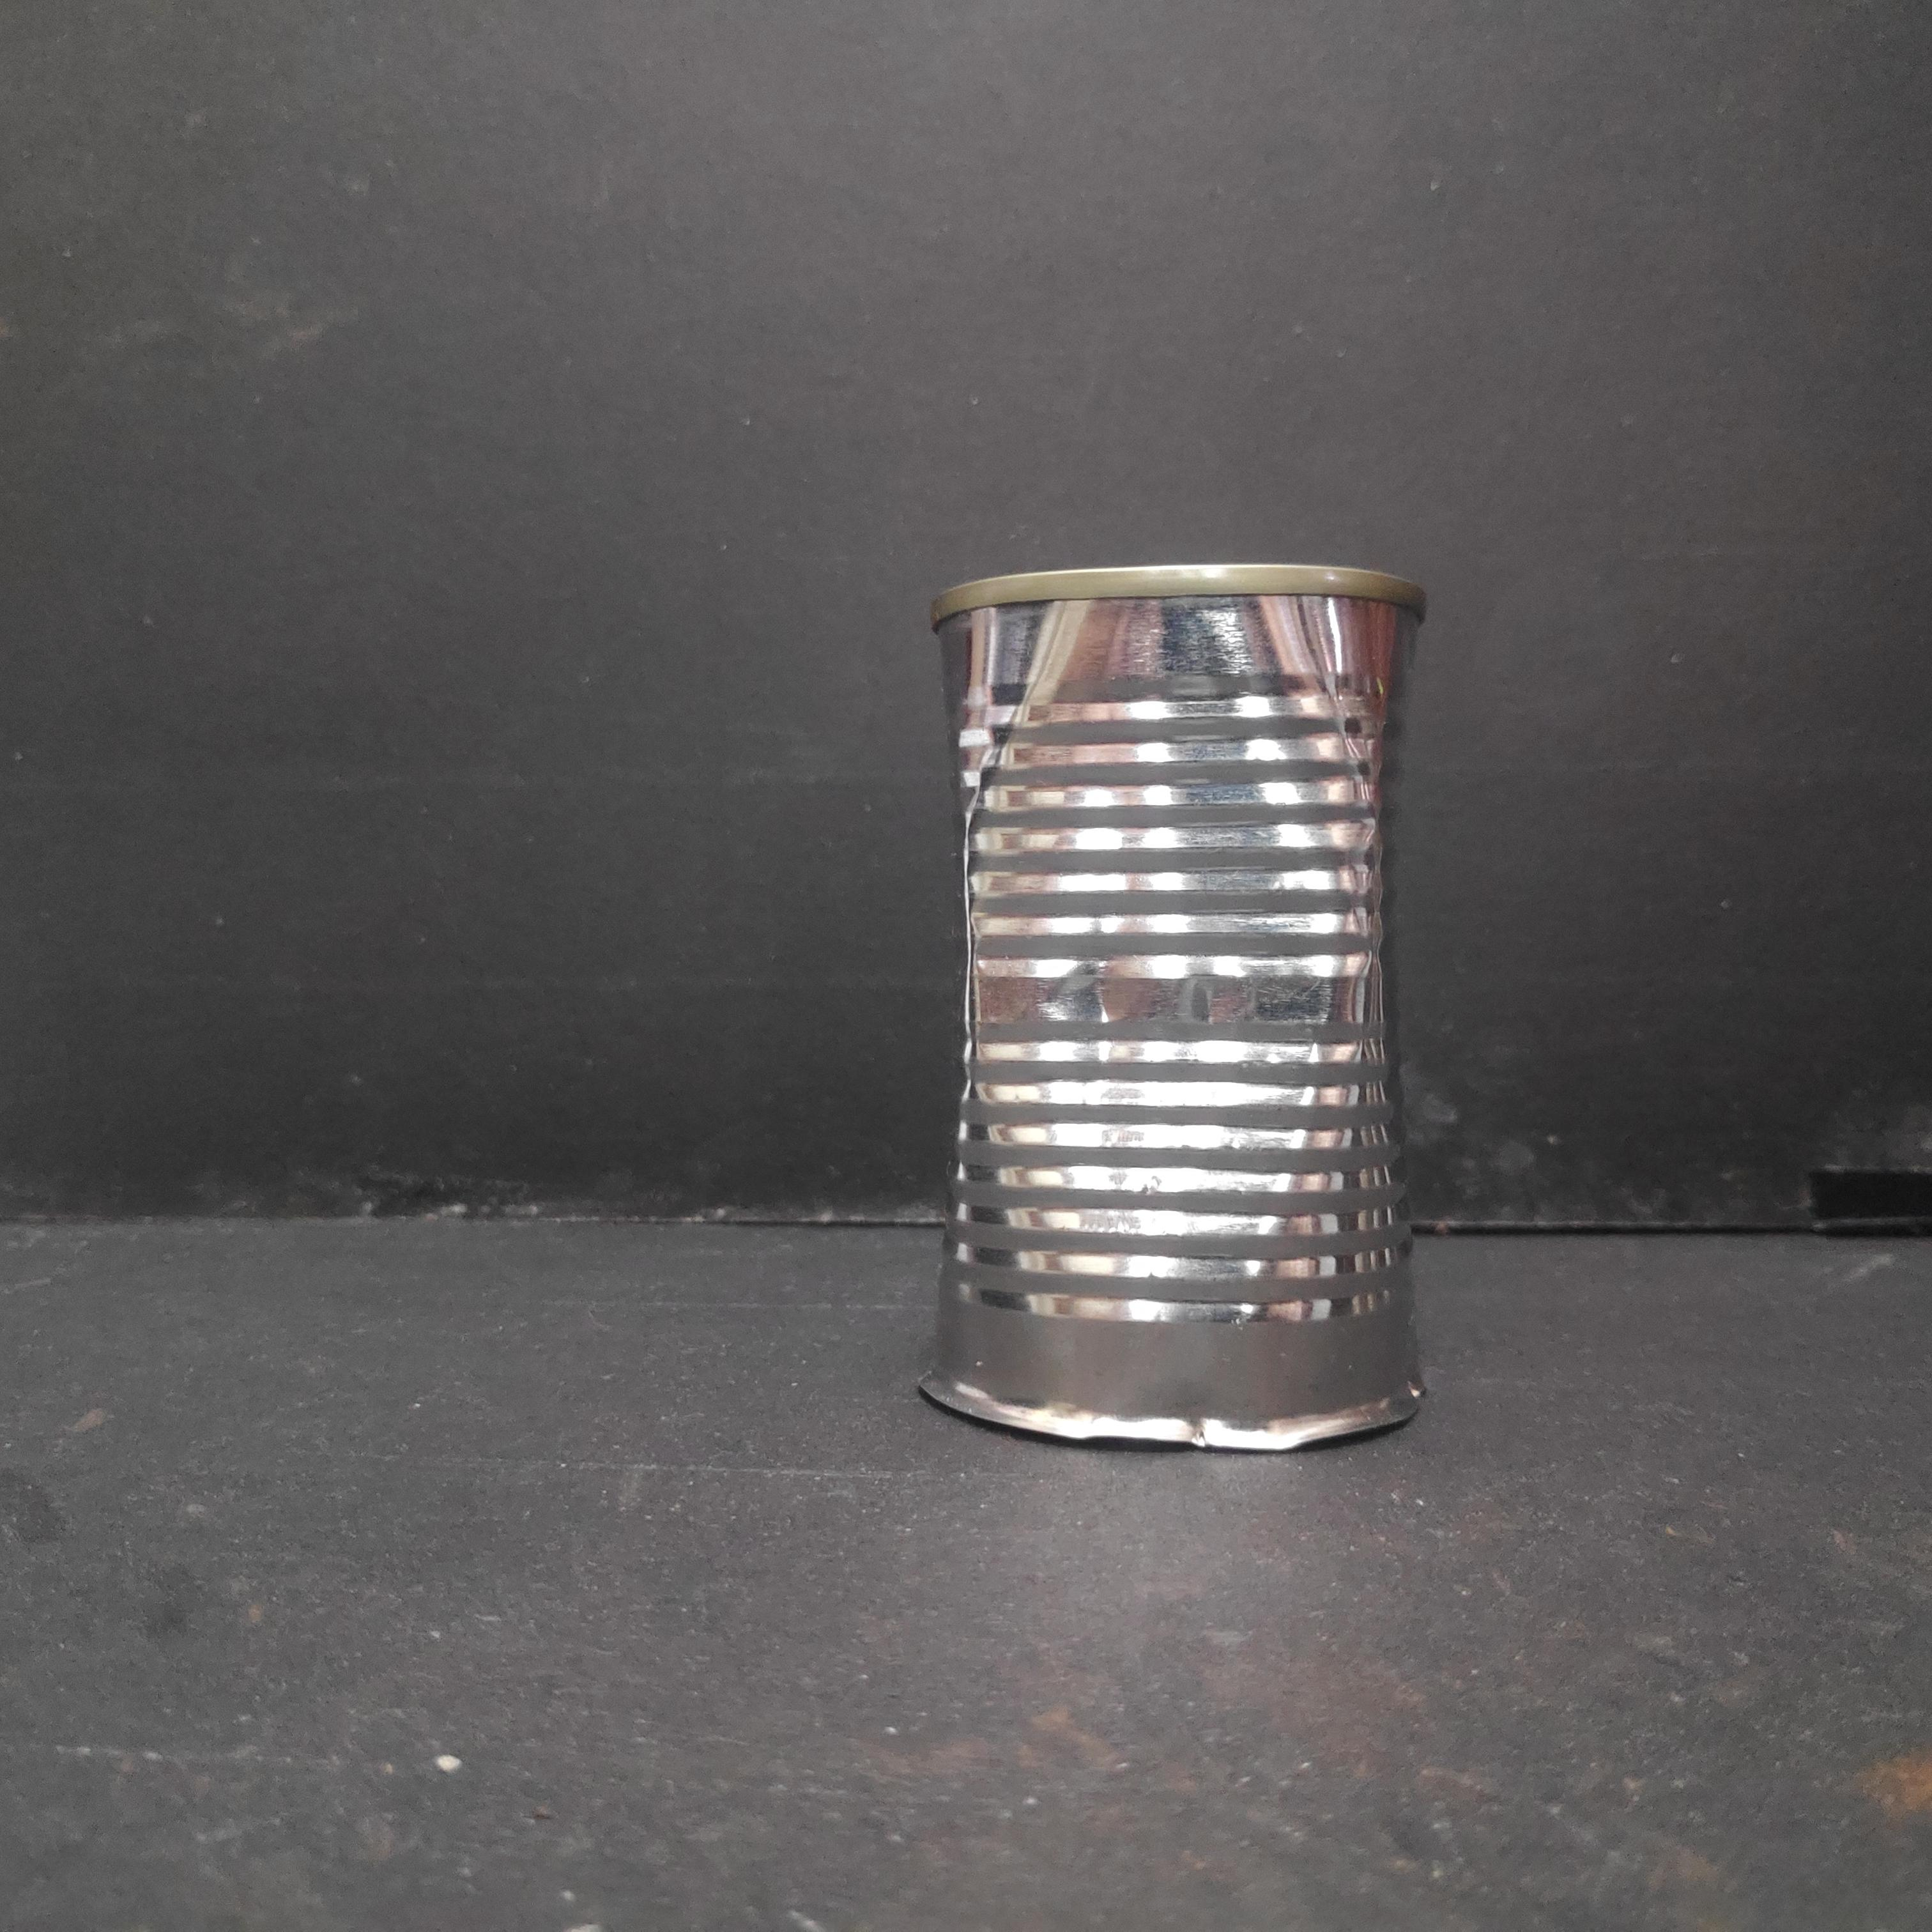Minor Defect: (922, 550, 1437, 1474)
